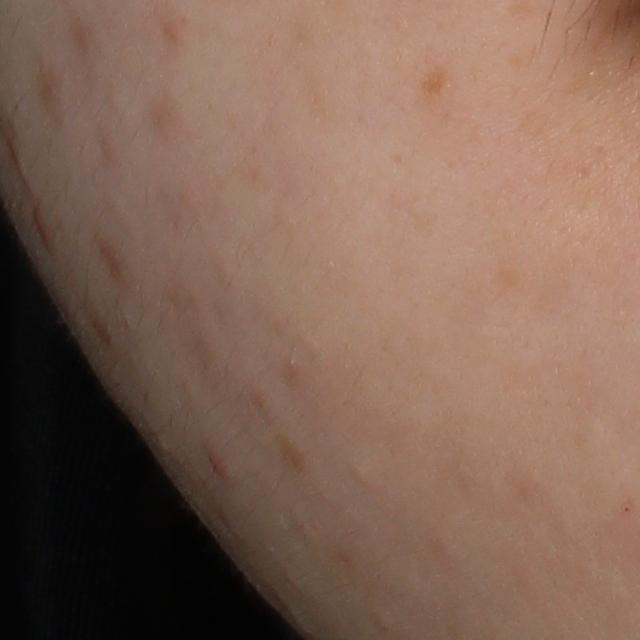comedo: (350, 466, 370, 485)
